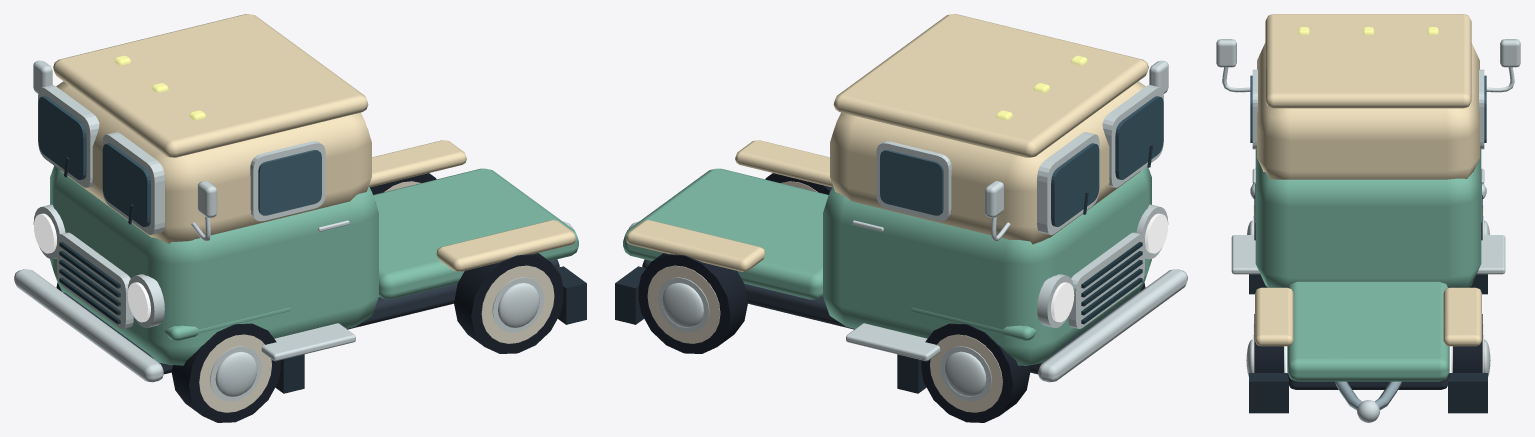
Rendered from truck-map.glb.
3 views of the same model, side by side, from view 1: azimuth 30°, elevation 25°; view 2: azimuth 150°, elevation 25°; view 3: azimuth 270°, elevation 25° (orthographic). The views are drawn at different scales.
Visible parts, largest first — view 1: pressed-panels, whitewall (×3); view 2: pressed-panels, whitewall (×3); view 3: pressed-panels, whitewall (×2).
Part boxes in pixels (<box>): pressed-panels: <box>14,14,586,393</box>; whitewall (×3): <box>171,173,563,422</box>; pressed-panels: <box>615,14,1187,393</box>; whitewall (×3): <box>638,173,1030,422</box>; pressed-panels: <box>1216,14,1520,422</box>; whitewall (×2): <box>1246,314,1490,376</box>.
Size of the model in its own units: 3.81 by 2.15 by 2.36.
